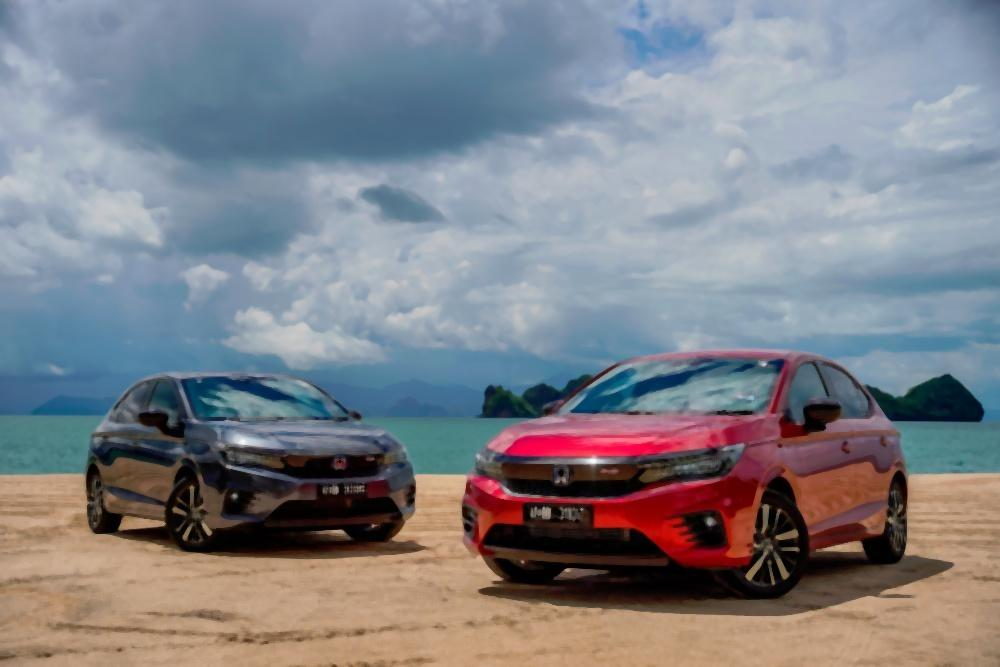Car hood: (481, 403, 771, 466), (188, 410, 409, 457)
Driver-s door - -F-R-: (136, 371, 189, 511)
Fender - -F-L-: (743, 407, 811, 551)
Fender - -F-R-: (167, 416, 224, 505)
Front bumper: (452, 476, 760, 579), (192, 475, 420, 546)
Headlight - -L-: (630, 438, 753, 489), (375, 440, 419, 473)
Headlight - -R-: (212, 442, 293, 478), (470, 438, 519, 487)
Passenger-s door - -F-L-: (771, 351, 850, 545)
Passenger-s door - -R-L-: (837, 360, 899, 535)
Passenger-s door - -R-R-: (97, 372, 152, 509)
Side bumper - -L-: (798, 496, 893, 557)
Side bumper - -R-: (96, 483, 179, 529)
Side mirror - -L-: (796, 393, 846, 433), (328, 402, 371, 428)
Side mirror - -R-: (147, 402, 197, 440), (532, 392, 578, 423)
